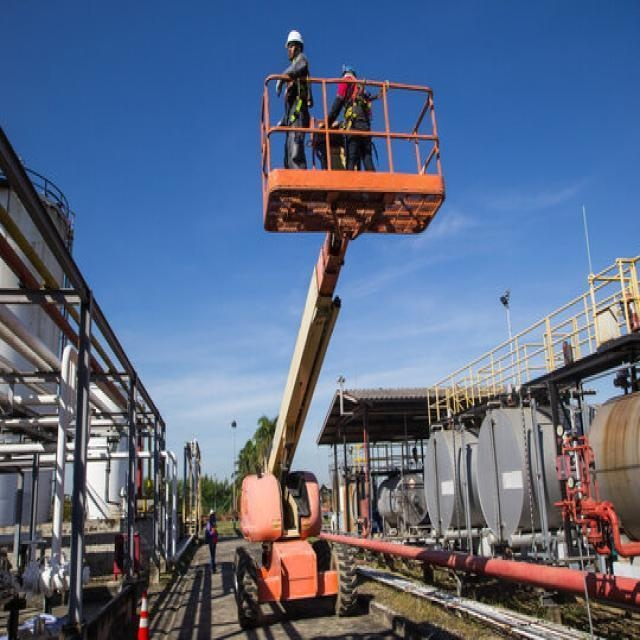Arnes_seguridad: (285, 62, 311, 108), (342, 87, 371, 128)
